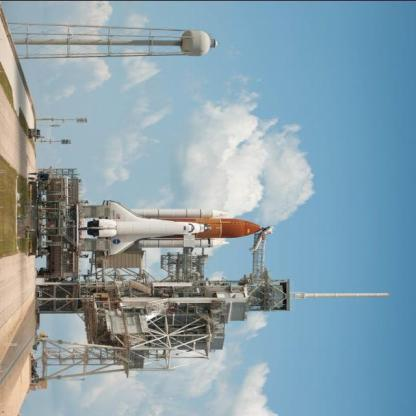MIL_TBM: (136, 207, 234, 220), (134, 237, 240, 249)
